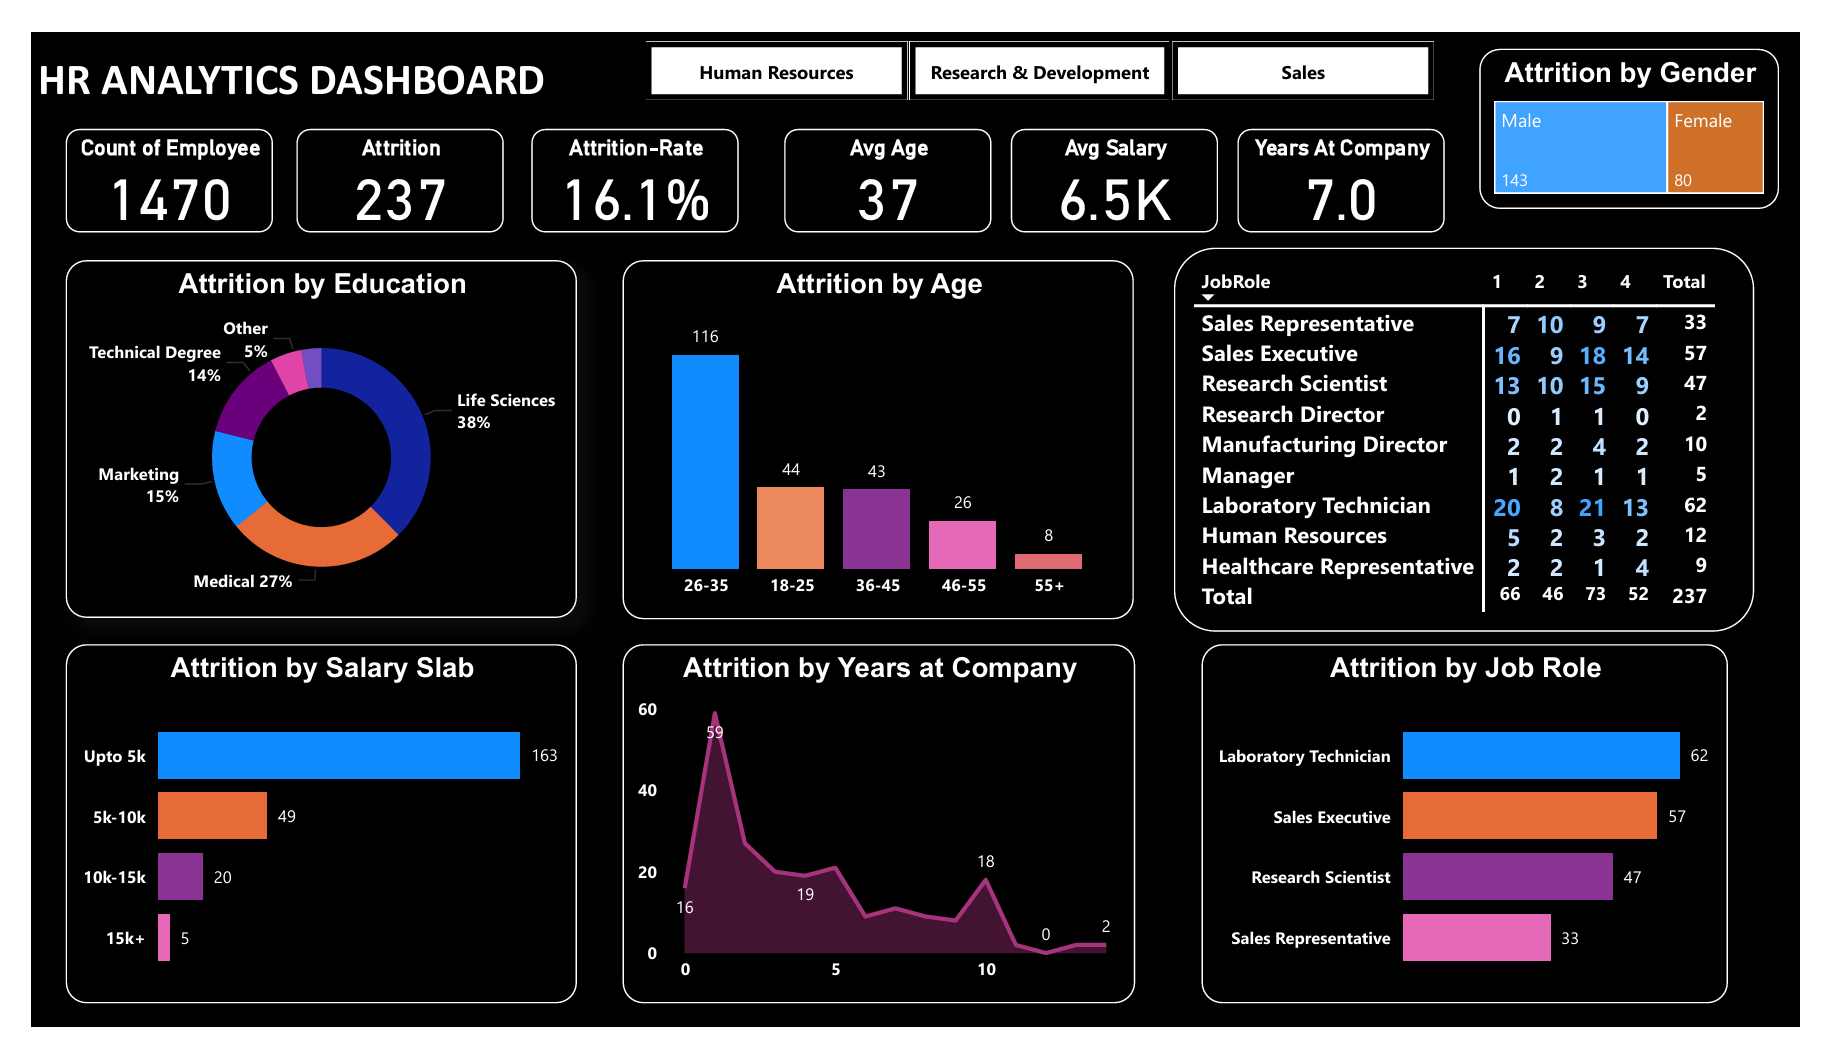

This screenshot's page, from the dashboard's own definition file:
{"tool":"powerbi","page":{"name":"Page 1","canvas":[1280,720],"ordinal":0},"visuals":[{"type":"card","title":"Count of Employee","fields":{"Values":["Sum(HR_Analytics.EmployeeCount)"]},"box":[24.7,70,150,75],"z":0},{"type":"card","title":"Attrition-Rate","fields":{"Values":["HR_Analytics.AttritionRate"]},"box":[362.3,70,150,75],"z":1000},{"type":"card","title":"Avg Age","fields":{"Values":["Avg(HR_Analytics.Age)"]},"box":[544.8,70,150,75],"z":2000},{"type":"card","title":"Attrition","fields":{"Values":["Sum(HR_Analytics.AttritionCount)"]},"box":[192.1,70,150,75],"z":3000},{"type":"card","title":"Years At Company","fields":{"Values":["Avg(HR_Analytics.YearsAtCompany)"]},"box":[872.7,70,164.7,75.5],"z":4000},{"type":"card","title":"Avg Salary","fields":{"Values":["Avg(HR_Analytics.MonthlyIncome)"]},"box":[709.4,70,150,75],"z":5000},{"type":"donutChart","title":"Attrition by Education","fields":{"Category":["HR_Analytics.EducationField"],"Y":["Sum(HR_Analytics.AttritionCount)"]},"box":[24.7,164.7,370.5,259.3],"z":6000},{"type":"columnChart","title":"Attrition by Age","fields":{"Category":["HR_Analytics.AgeGroup"],"Y":["Sum(HR_Analytics.AttritionCount)"]},"box":[428.1,164.7,370,260],"z":7000},{"type":"pivotTable","fields":{"Rows":["HR_Analytics.JobRole"],"Columns":["HR_Analytics.JobSatisfaction"],"Values":["Sum(HR_Analytics.AttritionCount)"]},"box":[827.4,156.4,420,278],"z":8000},{"type":"barChart","title":"Attrition by Salary Slab","fields":{"Category":["HR_Analytics.SalarySlab"],"Y":["Sum(HR_Analytics.AttritionCount)"]},"box":[24.7,443.2,370.5,259.3],"z":9000},{"type":"barChart","title":"Attrition by Job Role","fields":{"Category":["HR_Analytics.JobRole"],"Y":["Sum(HR_Analytics.AttritionCount)"]},"box":[846.7,443.2,381.5,259.3],"z":10000},{"type":"areaChart","title":"Attrition by Years at Company","fields":{"Category":["HR_Analytics.YearsAtCompany"],"Y":["Sum(HR_Analytics.AttritionCount)"]},"box":[428.1,443.2,370.5,259.3],"z":11000},{"type":"treemap","title":"Attrition by Gender","fields":{"Group":["HR_Analytics.Gender"],"Values":["Sum(HR_Analytics.AttritionCount)"]},"box":[1048.4,12.3,216.8,115.3],"z":12000},{"type":"textbox","box":[0,9.6,428.1,60.4],"z":13000},{"type":"slicer","fields":{"Values":["HR_Analytics.Department"]},"box":[418.5,0,620.2,56.3],"z":14000}]}

Visuals, with their boxes in screenshot pixels (x1, y1, x2, y2), scaled from the page's 1280x720 canvas onto the 1833x1055 screenshot:
"Count of Employee" card: Rect(35, 103, 250, 212)
"Attrition-Rate" card: Rect(519, 103, 734, 212)
"Avg Age" card: Rect(780, 103, 995, 212)
"Attrition" card: Rect(275, 103, 490, 212)
"Years At Company" card: Rect(1250, 103, 1486, 213)
"Avg Salary" card: Rect(1016, 103, 1231, 212)
"Attrition by Education" donutChart: Rect(35, 241, 566, 621)
"Attrition by Age" columnChart: Rect(613, 241, 1143, 622)
pivotTable - HR_Analytics.JobRole x HR_Analytics.JobSatisfaction: Rect(1185, 229, 1786, 637)
"Attrition by Salary Slab" barChart: Rect(35, 649, 566, 1029)
"Attrition by Job Role" barChart: Rect(1213, 649, 1759, 1029)
"Attrition by Years at Company" areaChart: Rect(613, 649, 1144, 1029)
"Attrition by Gender" treemap: Rect(1501, 18, 1812, 187)
textbox: Rect(0, 14, 613, 103)
slicer - HR_Analytics.Department: Rect(599, 0, 1487, 82)
